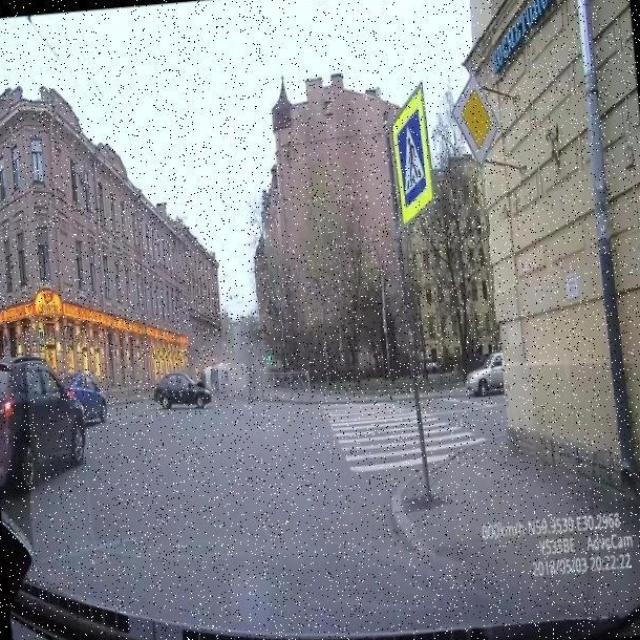accident: (191, 356, 236, 397)
